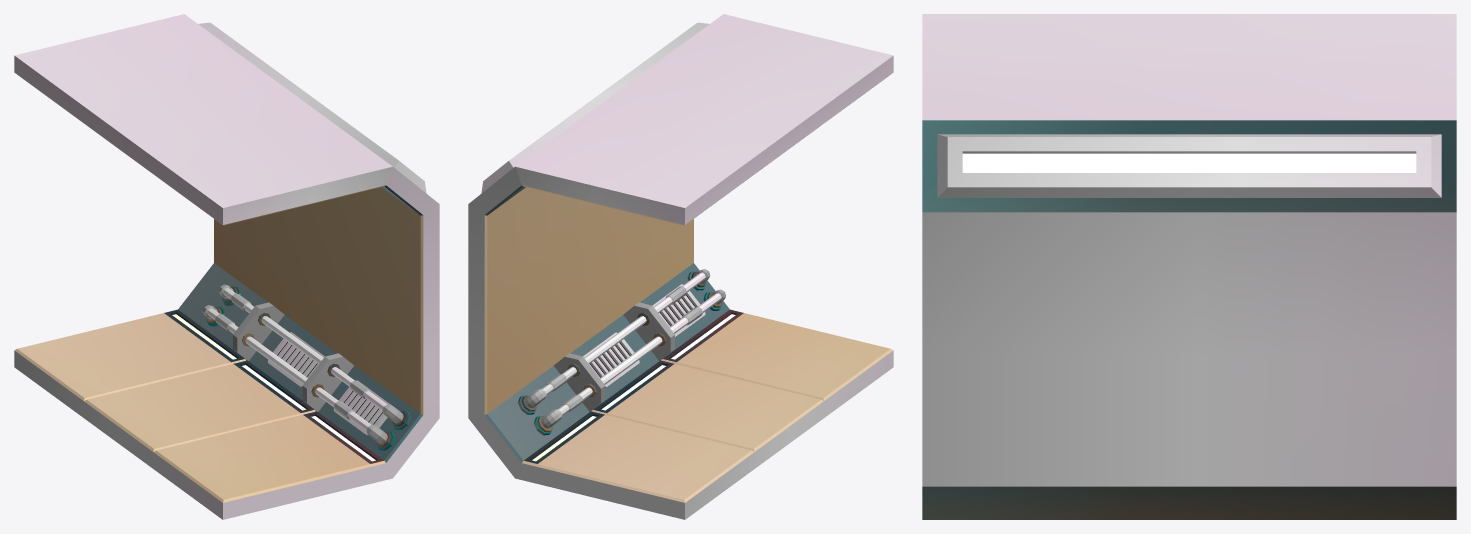
File: C_forBigDoor_R.fbx
The picture shows the model from 3 angles, left to right: view 1: azimuth 30°, elevation 25°; view 2: azimuth 150°, elevation 25°; view 3: azimuth 270°, elevation 25°; orthographic projection. The views are drawn at different scales.
Parts seen in each view (by area): view 1: C_forBigDoor_R; view 2: C_forBigDoor_R; view 3: C_forBigDoor_R.
Part boxes in pixels (x1,y1,x2,y2): C_forBigDoor_R: [14, 14, 439, 519]; C_forBigDoor_R: [468, 14, 893, 519]; C_forBigDoor_R: [922, 14, 1456, 519].
Size of the model in its own units: 240 by 330 by 400.
